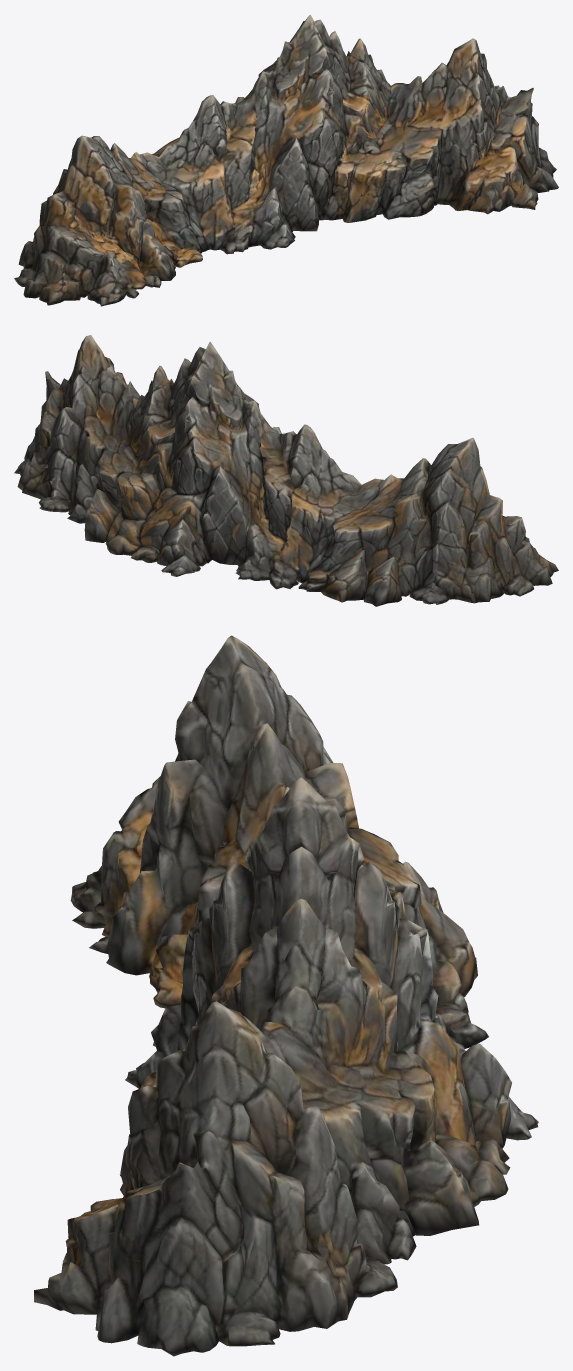
Rendered from ridge.glb.
3 views of the same model, one above another, from view 1: azimuth 30°, elevation 25°; view 2: azimuth 150°, elevation 25°; view 3: azimuth 270°, elevation 25° (orthographic). The views are drawn at different scales.
Size of the model in its own units: 0.9575 by 0.3223 by 0.397.
1 material, 1 textured.
